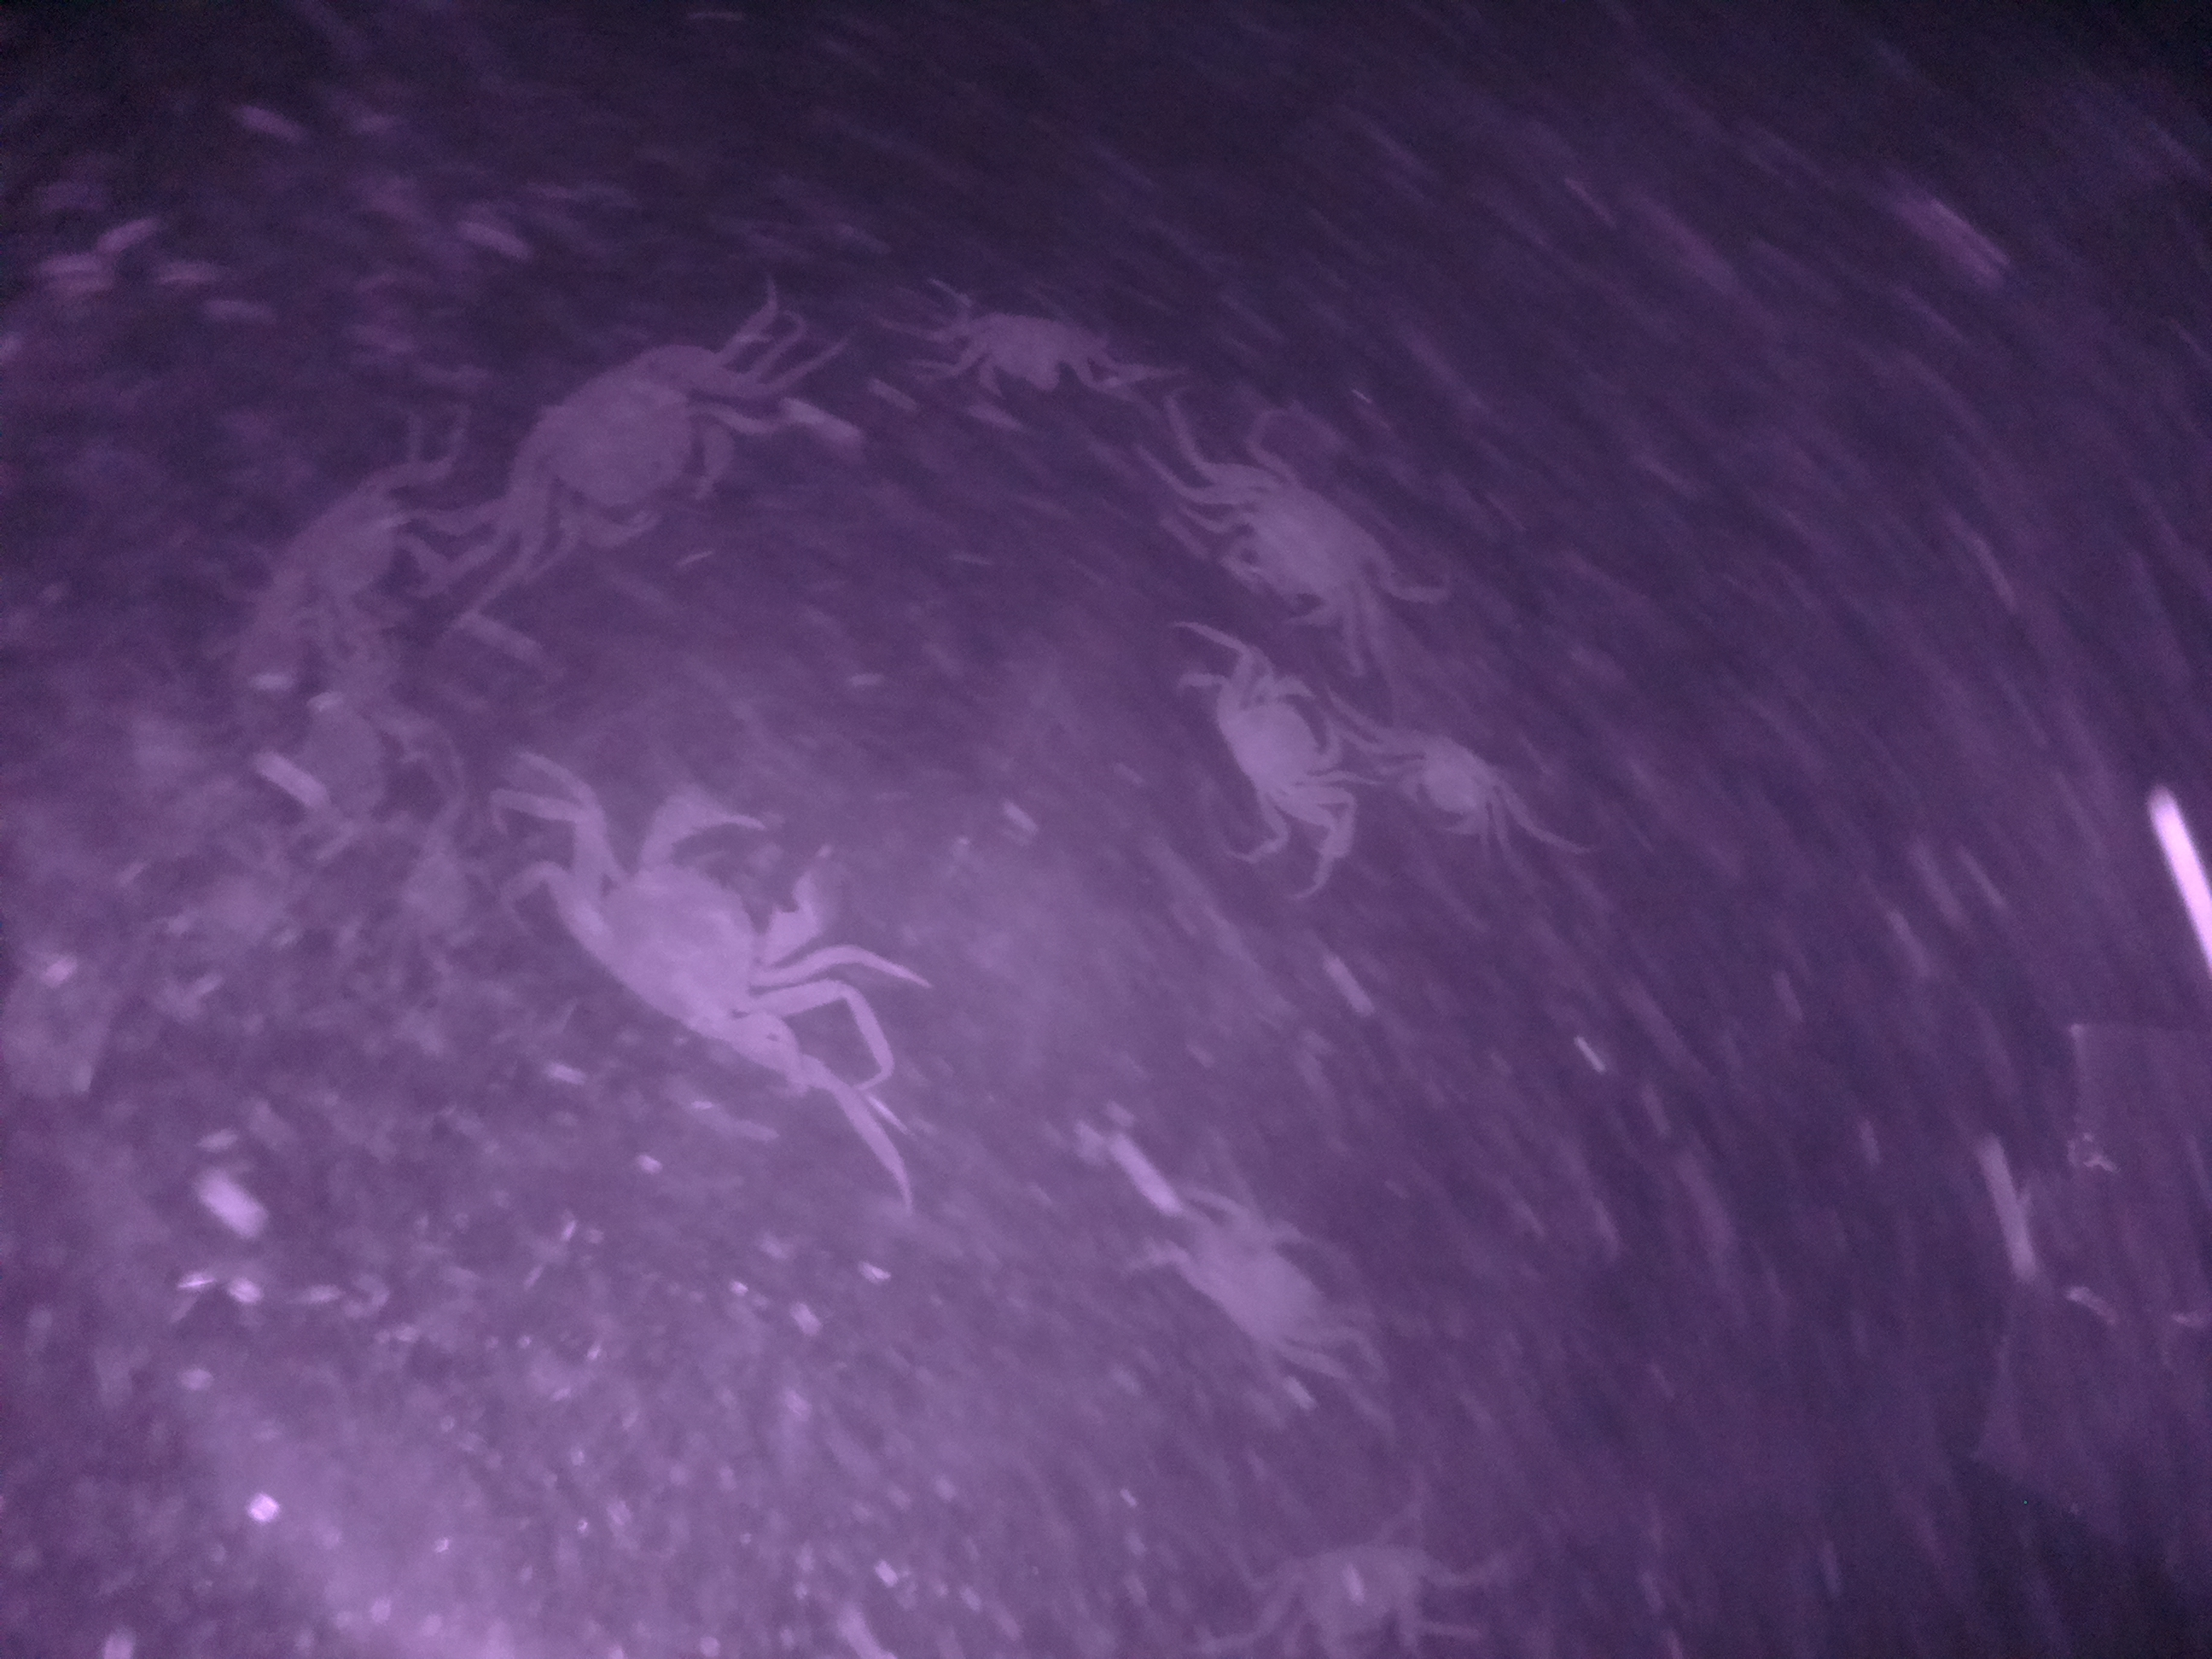Crab: (498, 335, 742, 565), (1198, 467, 1392, 622), (1204, 652, 1339, 819), (1383, 714, 1522, 857), (953, 291, 1089, 418)
